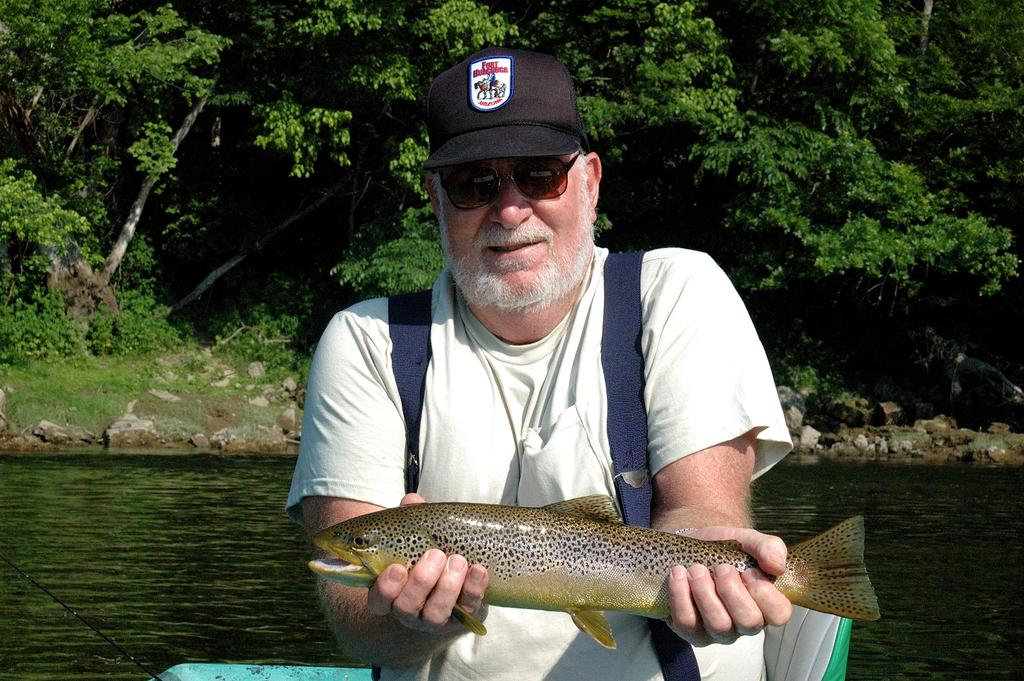Hat: (419, 43, 587, 168)
